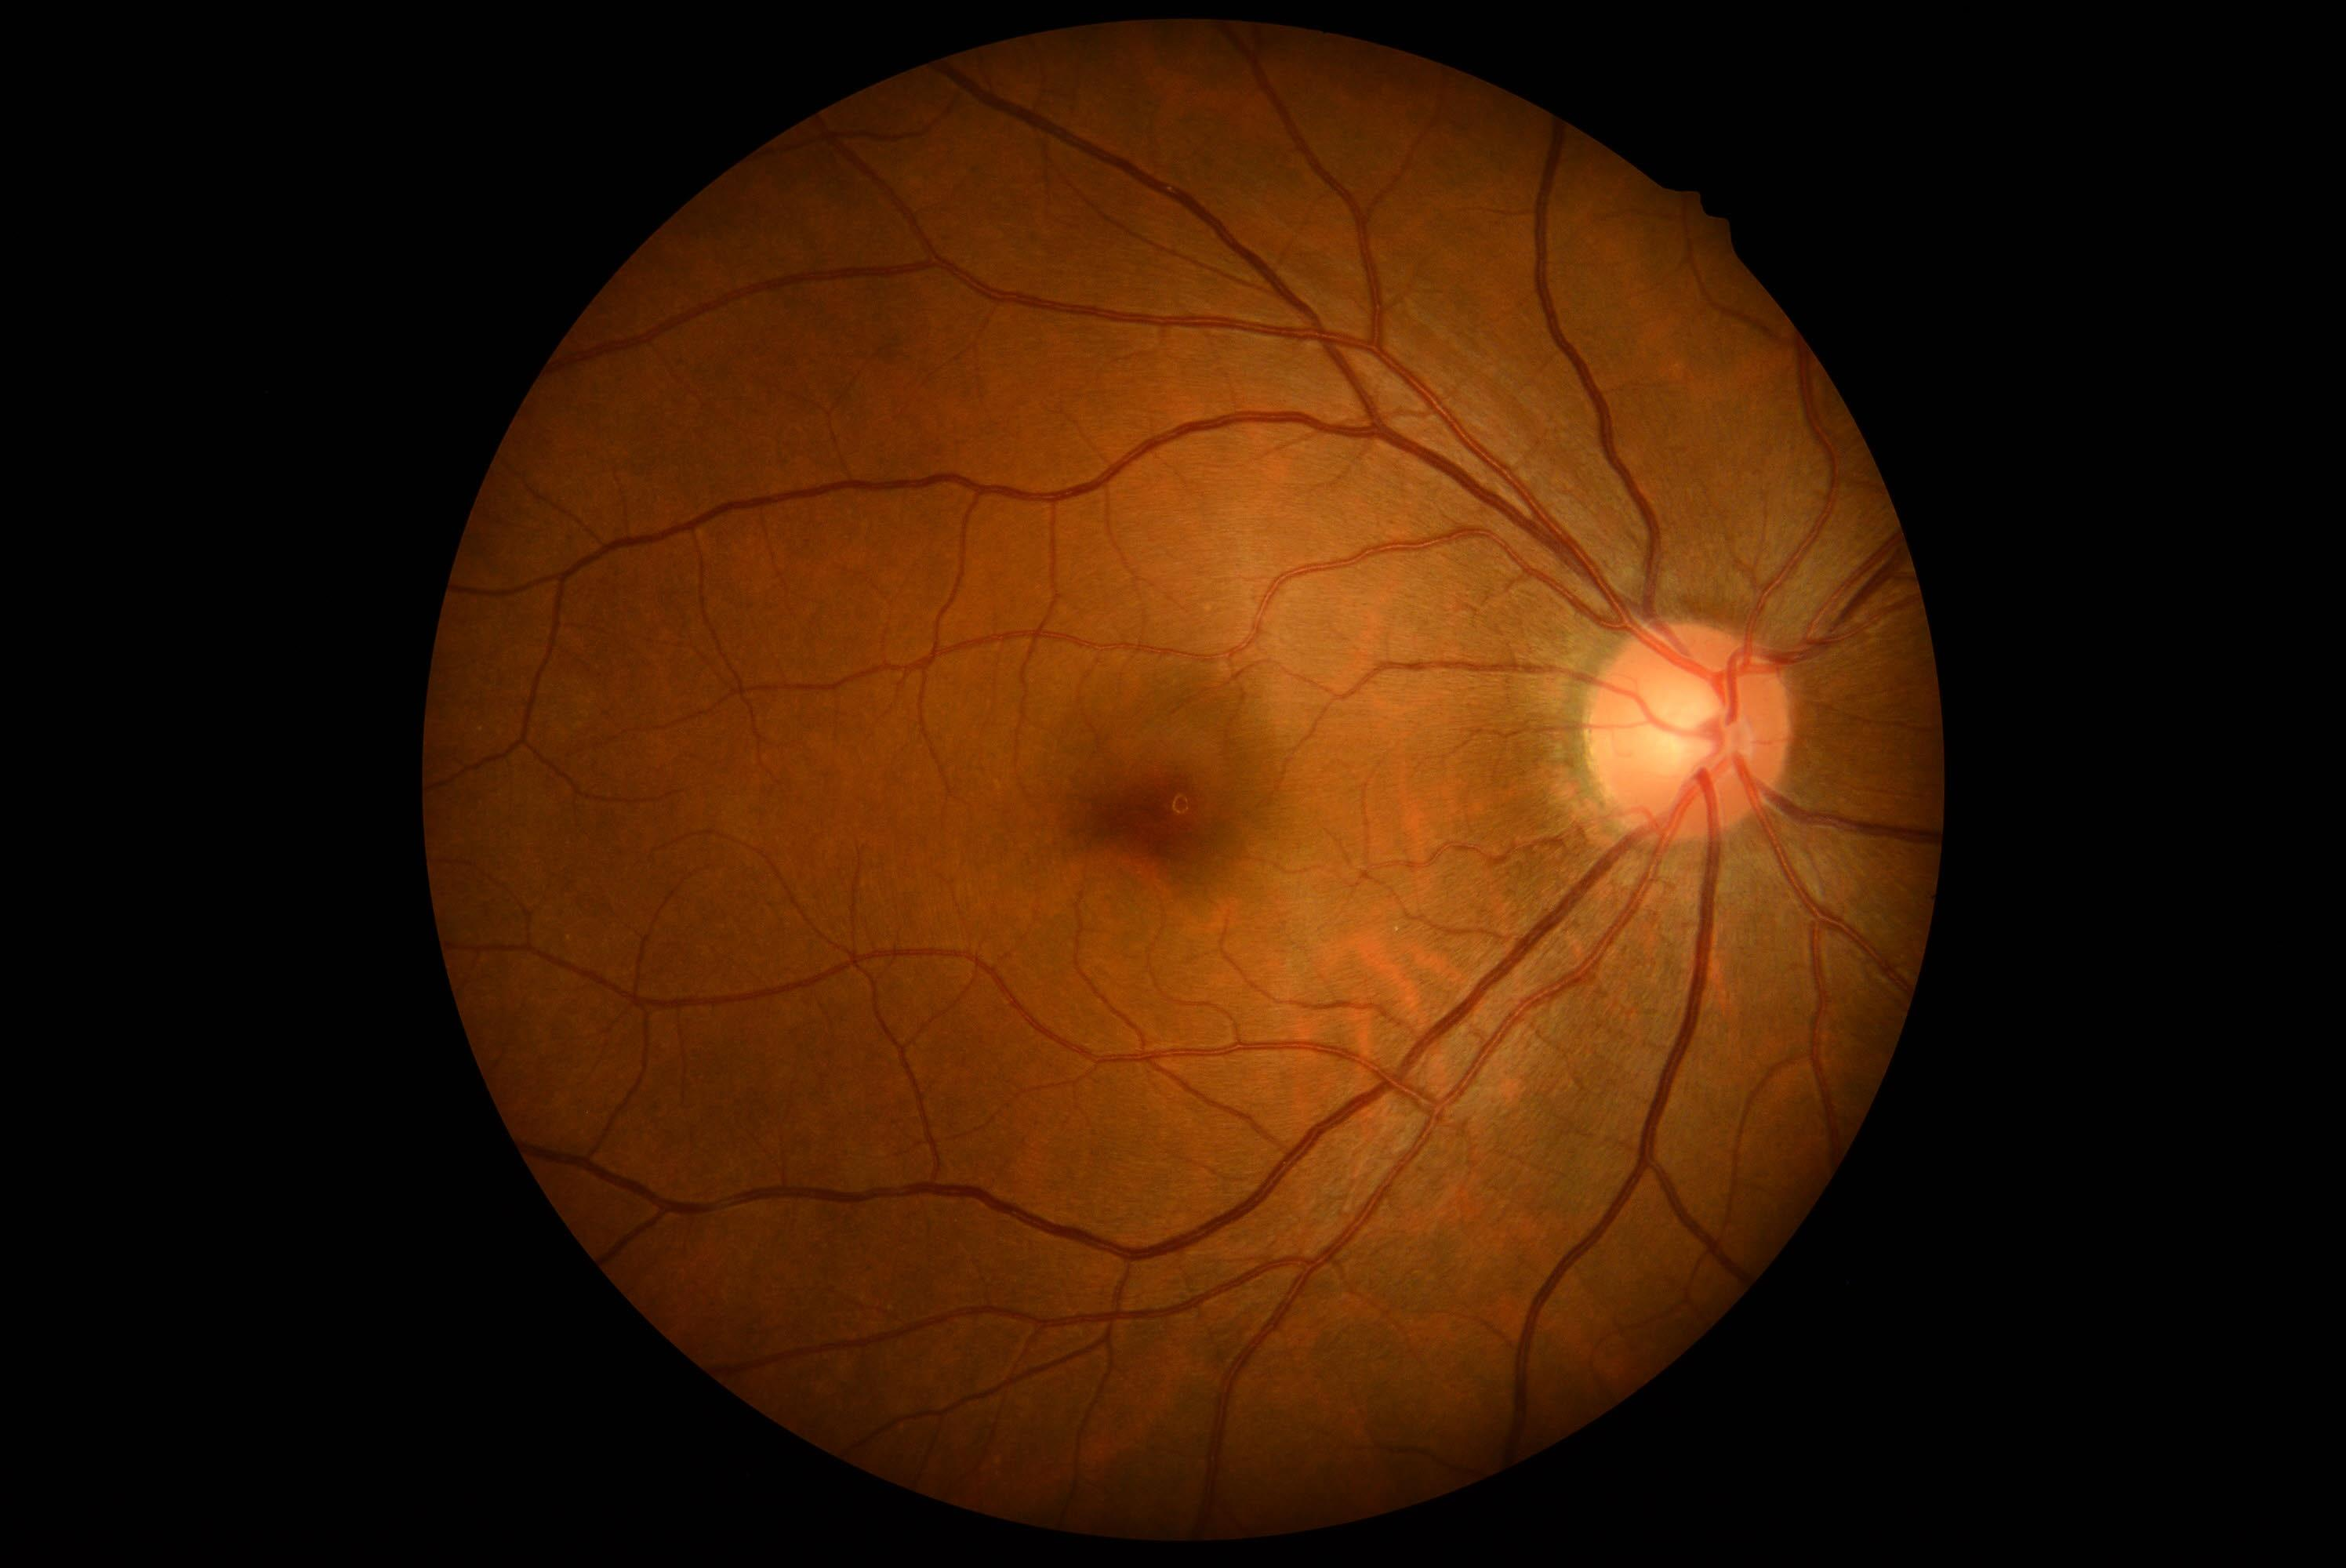Fovea: (1090, 726, 1254, 889)
